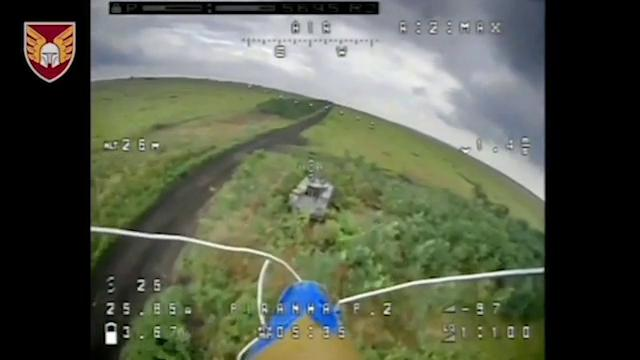tank: (285, 159, 335, 226)
